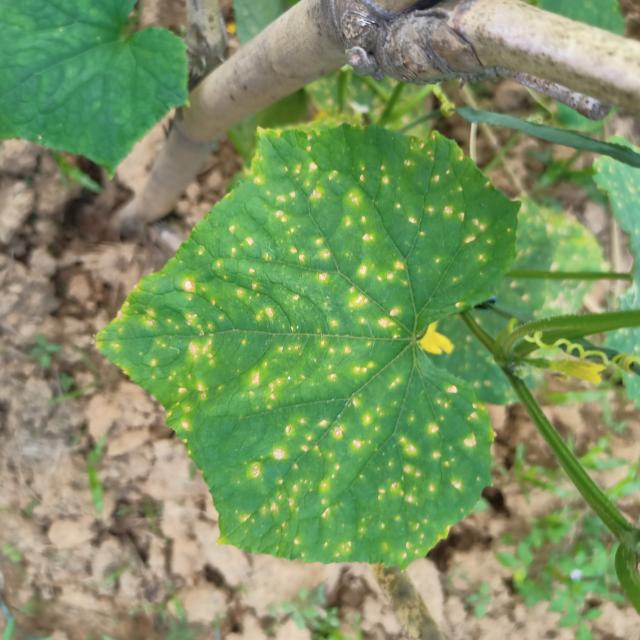disease_cucumber: (145, 127, 502, 554)
